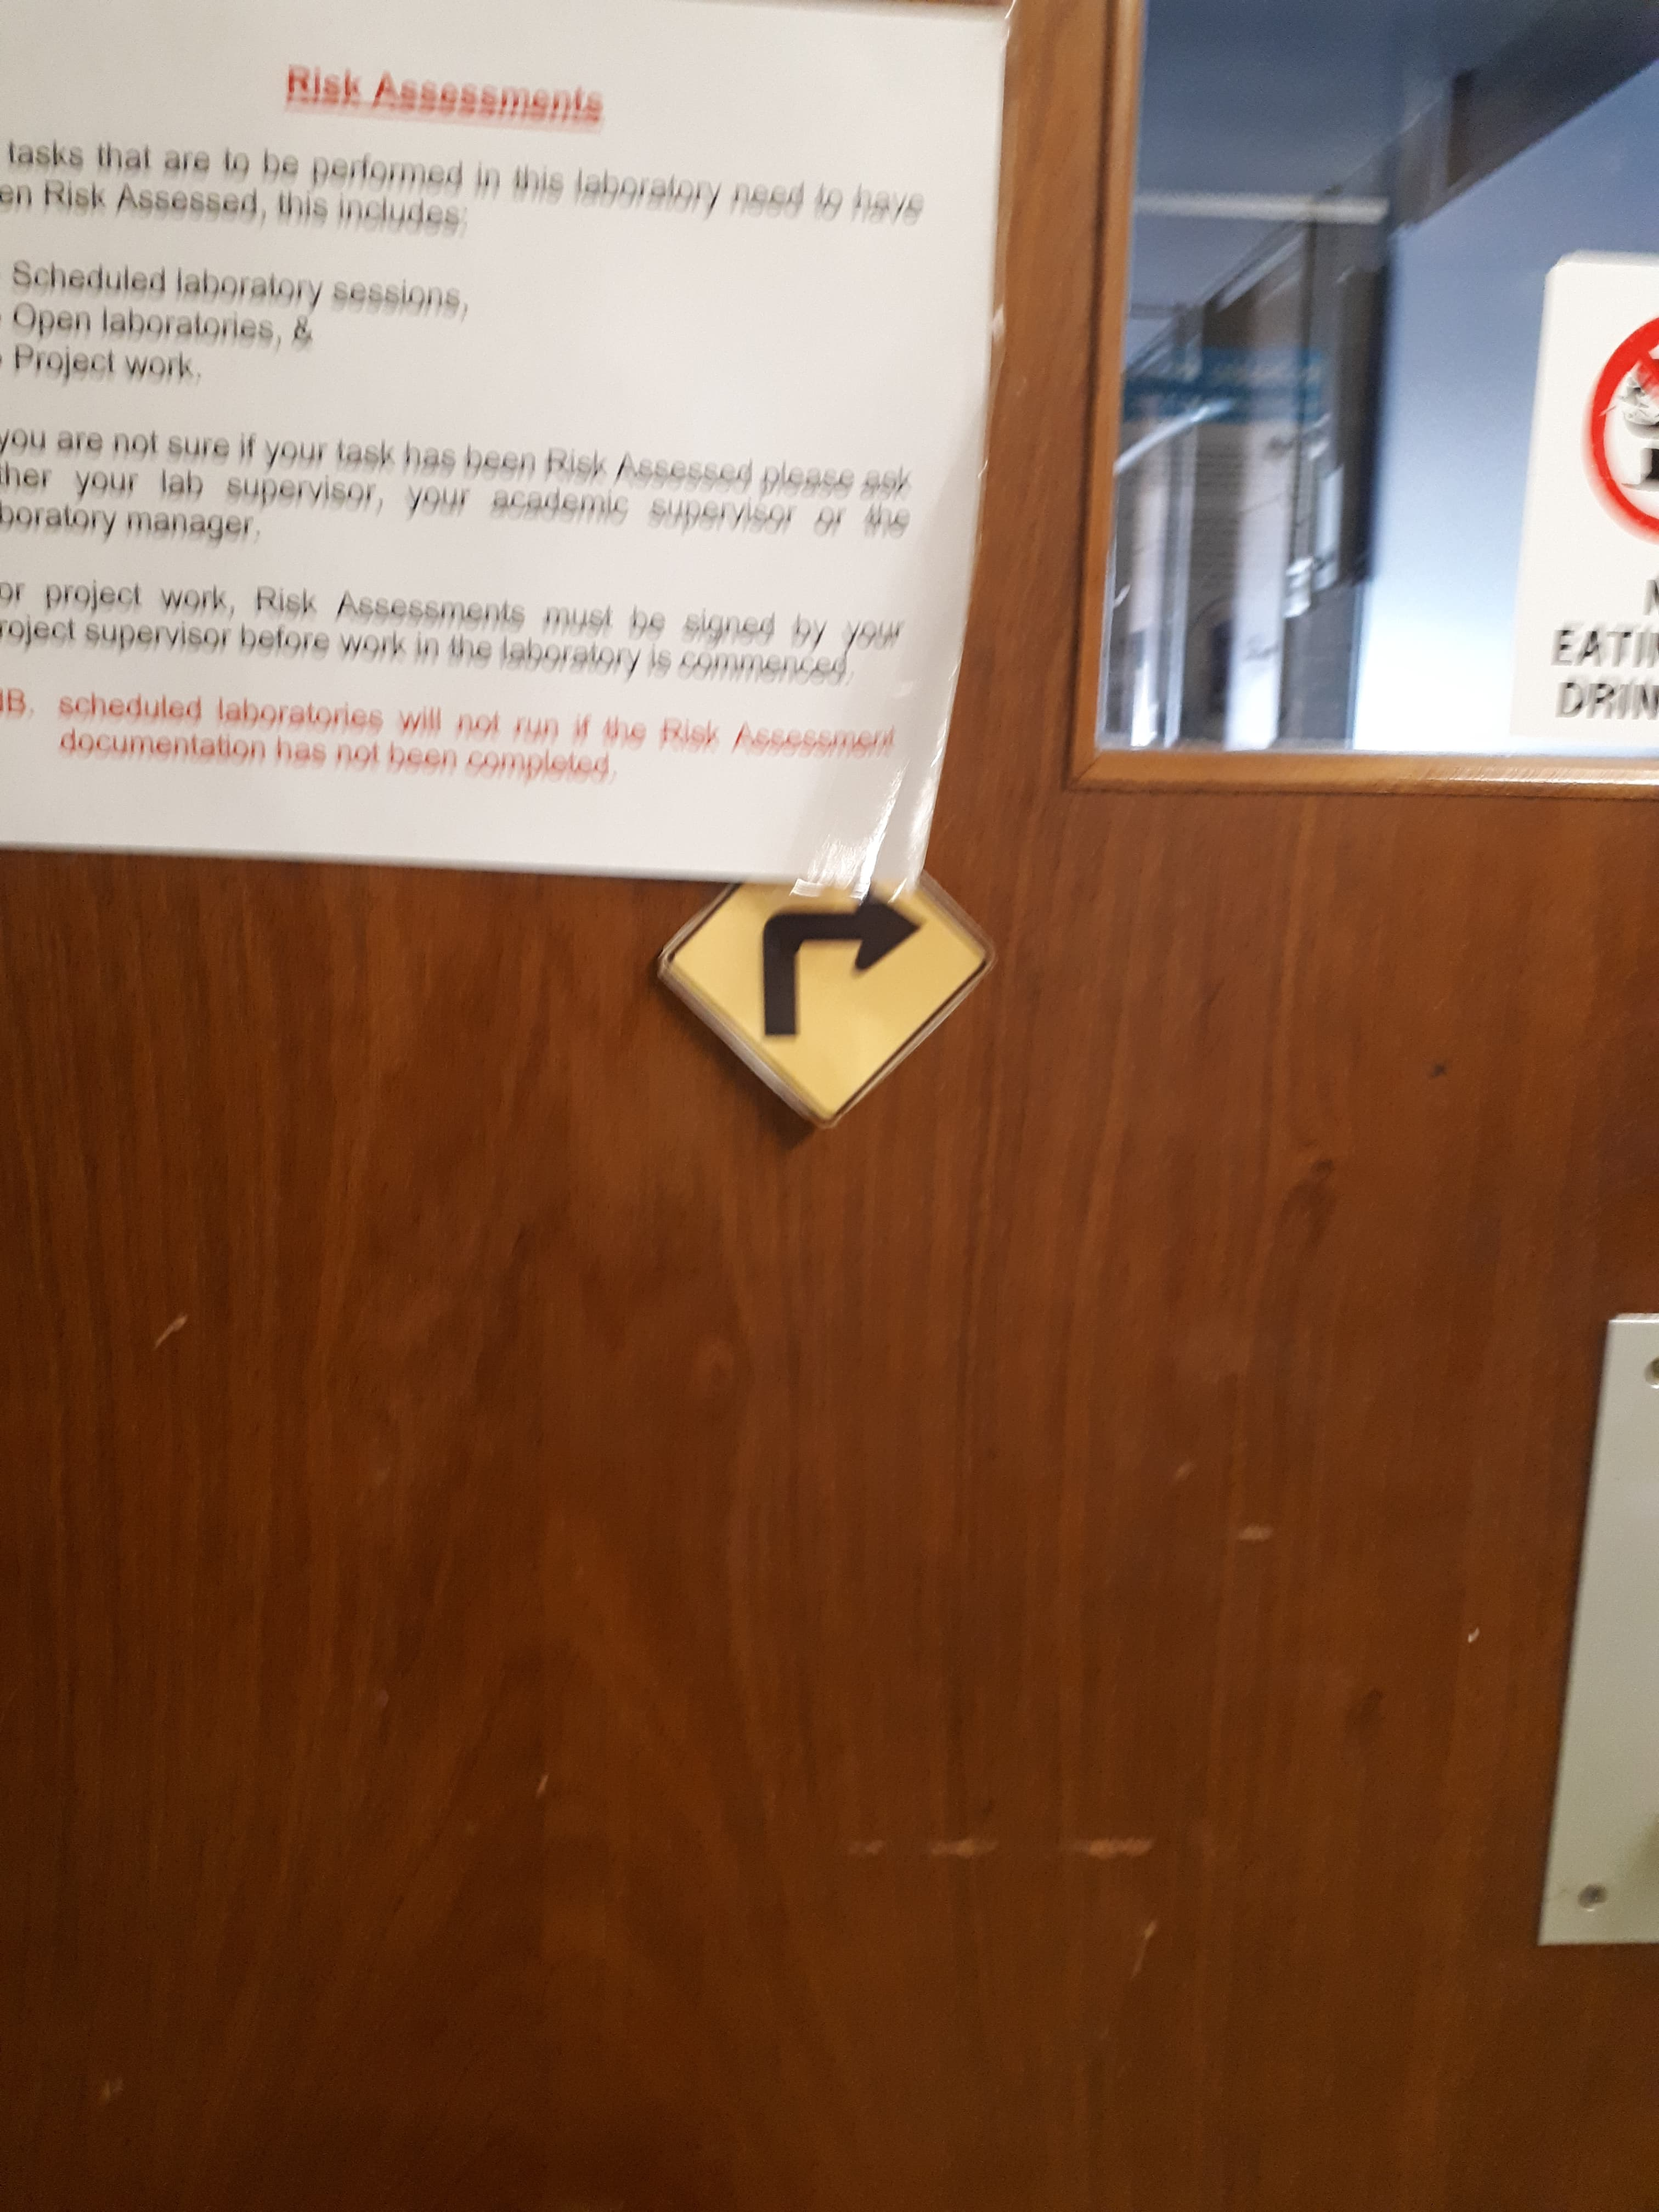right: (606, 838, 1021, 1146), (727, 873, 967, 954)
